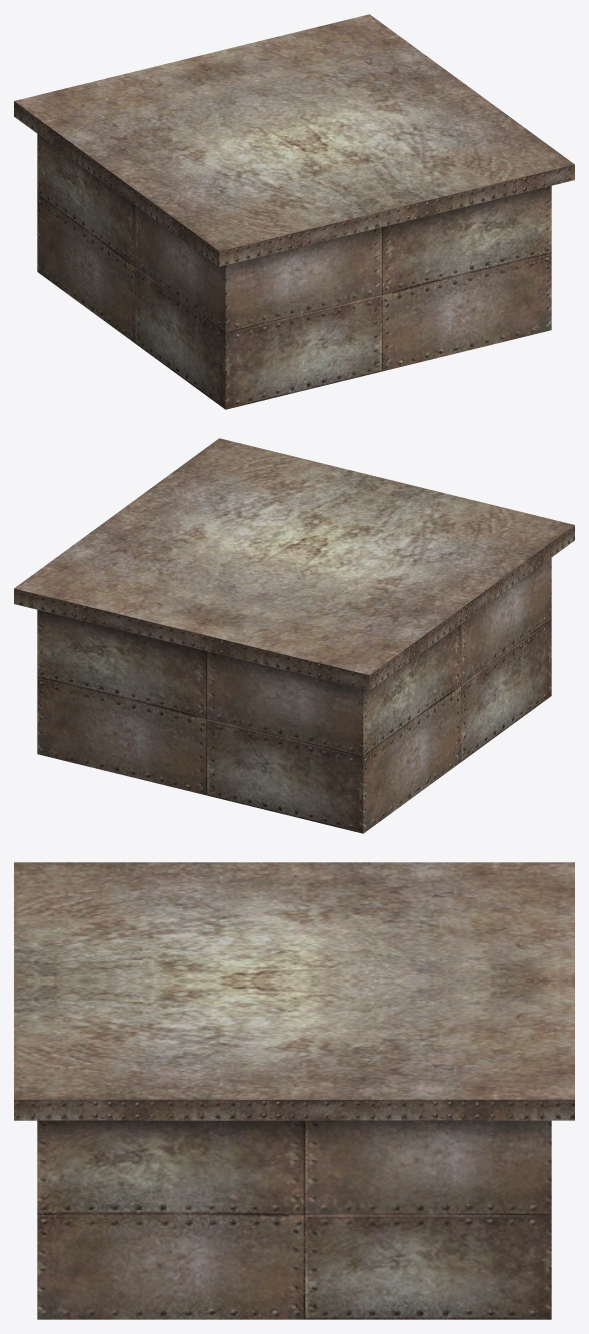
File: hell_club_table_square_lg.fbx
3 views of the same model, one above another, from view 1: azimuth 30°, elevation 25°; view 2: azimuth 150°, elevation 25°; view 3: azimuth 270°, elevation 25° (orthographic). The views are drawn at different scales.
Visible parts, largest first — view 1: mesh_0; view 2: mesh_0; view 3: mesh_0.
Boxes of the visible parts, x1=… form: mesh_0: x1=14, y1=14, x2=574, y2=409; mesh_0: x1=14, y1=438, x2=574, y2=833; mesh_0: x1=14, y1=862, x2=574, y2=1319.
Bounding box in the file's own units: 120 × 54.26 × 120.
Materials: 1 (1 with a texture image).
